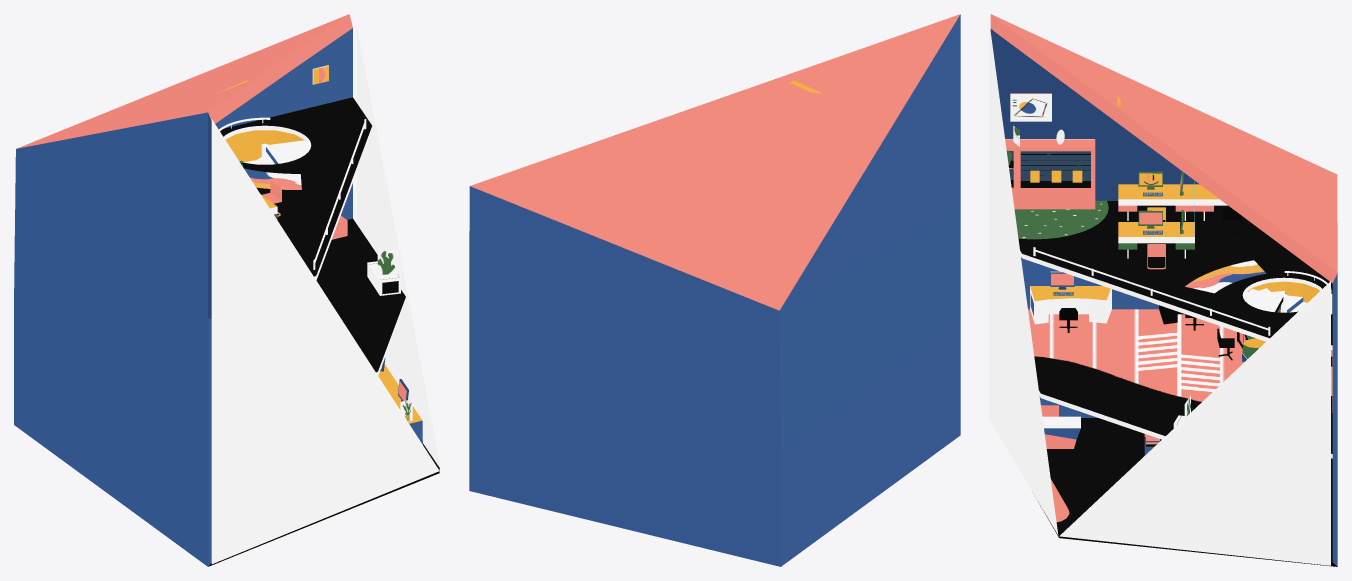
Rendered from 1114_广告线.fbx.
The picture shows the model from 3 angles, left to right: view 1: azimuth 30°, elevation 25°; view 2: azimuth 150°, elevation 25°; view 3: azimuth 270°, elevation 25°; orthographic projection. The views are drawn at different scales.
Visible parts, largest first — view 1: building, Polygon, floor, Polygon_1, Null_Instance_1, Disc_1, Cube_3_2, Extrude_3, Plane_3_2; view 2: building; view 3: building, Polygon_1, floor, Polygon, Cube_1, Disc_2, Cube_5, Null_Instance_1, table_20, table_20_2, Disc_1, Cube (+3 smaller).
Part boxes in pixels (left/top/right/bottom): building: left=14, top=14, right=439, bottom=566; Polygon: left=211, top=119, right=439, bottom=563; floor: left=220, top=97, right=405, bottom=375; Polygon_1: left=356, top=25, right=440, bottom=469; Null_Instance_1: left=225, top=130, right=311, bottom=164; Disc_1: left=244, top=168, right=301, bottom=189; Cube_3_2: left=367, top=261, right=400, bottom=295; Extrude_3: left=378, top=364, right=422, bottom=444; Plane_3_2: left=377, top=248, right=401, bottom=285; building: left=469, top=14, right=960, bottom=566; building: left=990, top=14, right=1337, bottom=566; Polygon_1: left=1059, top=281, right=1330, bottom=565; floor: left=1018, top=201, right=1332, bottom=458; Polygon: left=989, top=23, right=1058, bottom=534; Cube_1: left=1005, top=139, right=1095, bottom=209; Disc_2: left=1014, top=200, right=1108, bottom=239; Cube_5: left=1030, top=286, right=1111, bottom=324; Null_Instance_1: left=1242, top=281, right=1319, bottom=361; table_20: left=1118, top=184, right=1194, bottom=220; table_20_2: left=1118, top=222, right=1194, bottom=258; Disc_1: left=1185, top=260, right=1266, bottom=293; Cube: left=1010, top=93, right=1051, bottom=121.
Size of the model in its own units: 1023 by 1312 by 1020.
